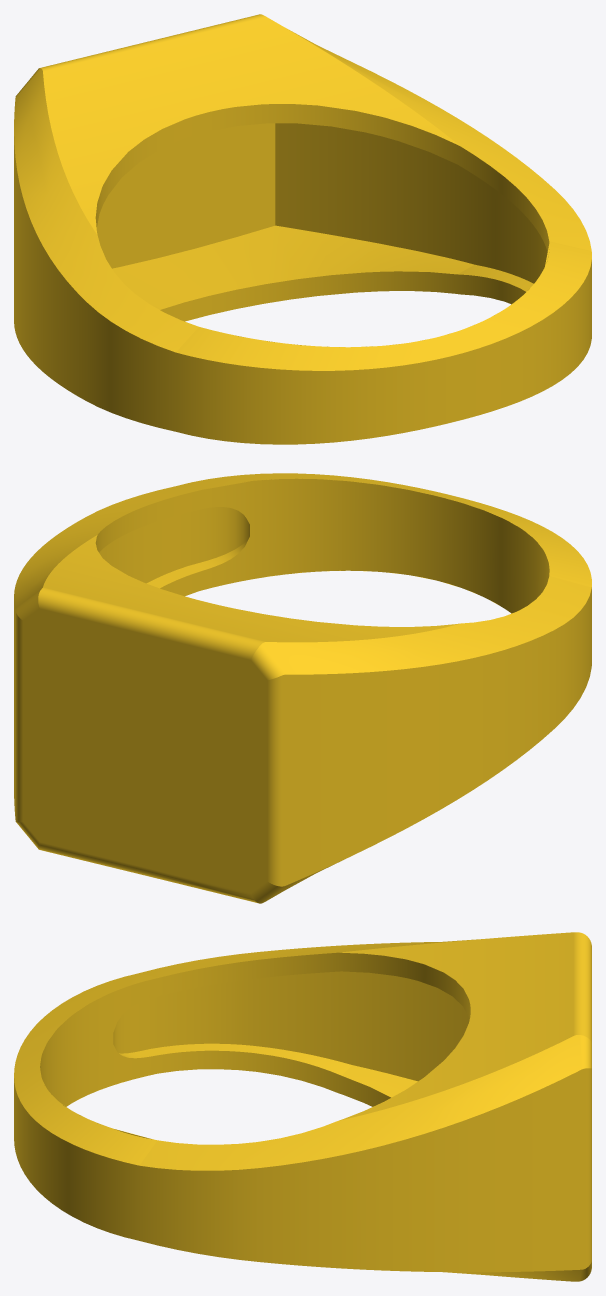
Rendered from ring_interactable.fbx.
3 views of the same model, one above another, from view 1: azimuth 30°, elevation 25°; view 2: azimuth 150°, elevation 25°; view 3: azimuth 270°, elevation 25° (orthographic). The views are drawn at different scales.
Visible parts, largest first — view 1: ring_interactable; view 2: ring_interactable; view 3: ring_interactable.
Boxes of the visible parts, x1=… form: ring_interactable: x1=14, y1=14, x2=591, y2=444; ring_interactable: x1=14, y1=473, x2=591, y2=903; ring_interactable: x1=14, y1=932, x2=591, y2=1281.
Bounding box in the file's own units: 31.94 × 17 × 36.09.
